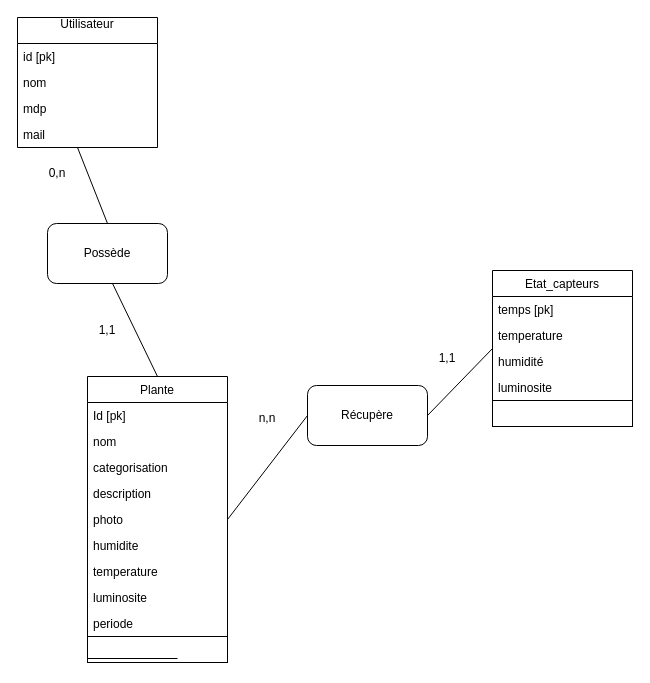
The diagram is 650 pixels wide and 683 high, and some of its shapes have lost their labels. The centre of each missing label's shape, as x and y in pixels:
"id_plante [pk] [fk]" belongs at (x=562, y=413).
"id_utilisateur [fk]" belongs at (x=157, y=649).
